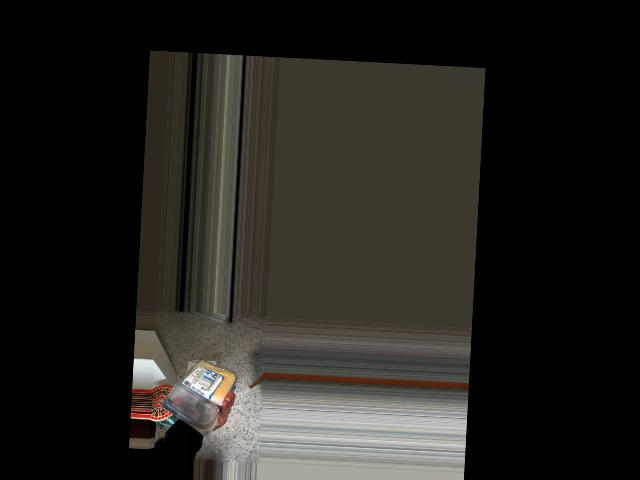cheese: (160, 353, 229, 426)
